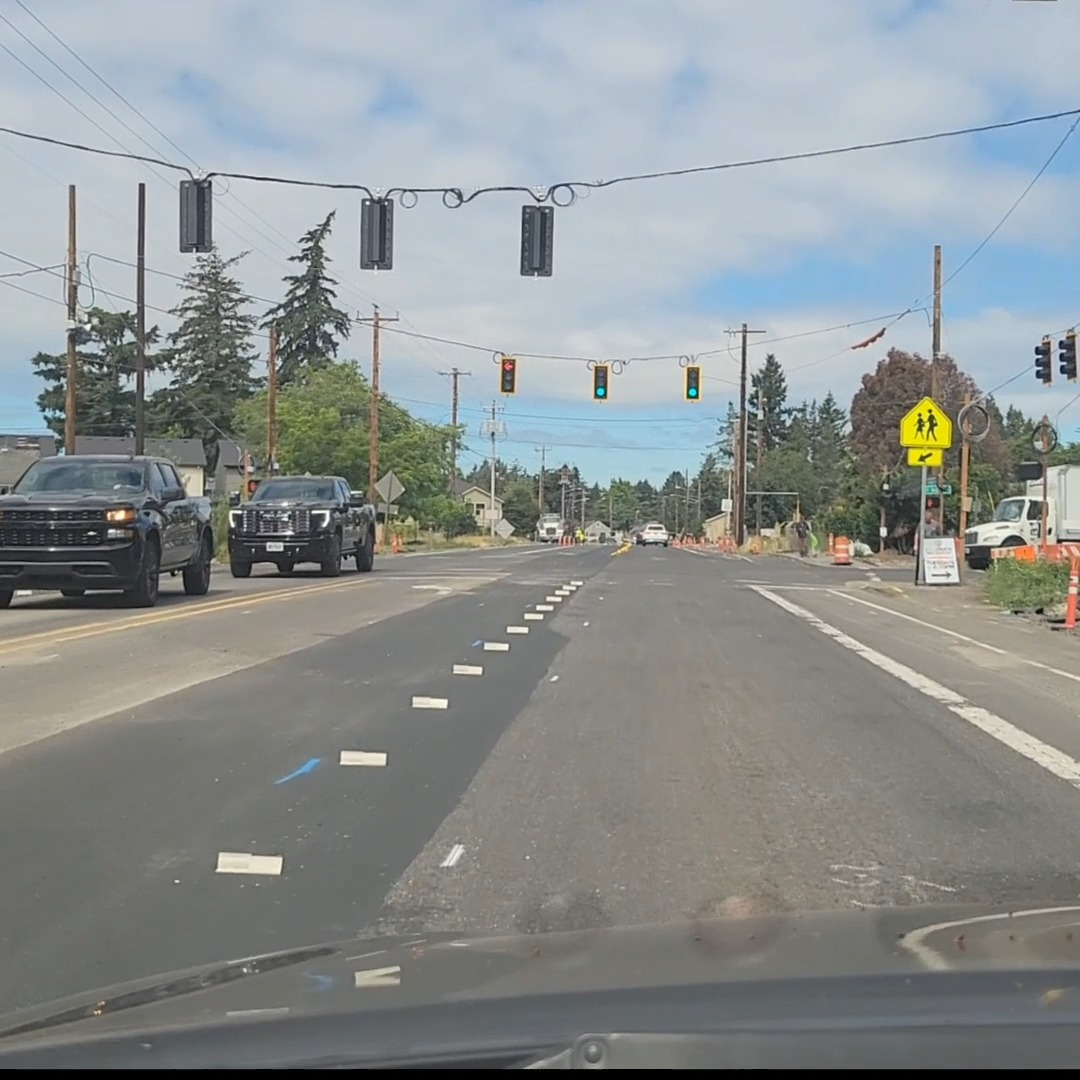car: (2, 454, 217, 605), (225, 475, 376, 578), (634, 523, 670, 546)
crosswalk-sign: (899, 396, 952, 453)
